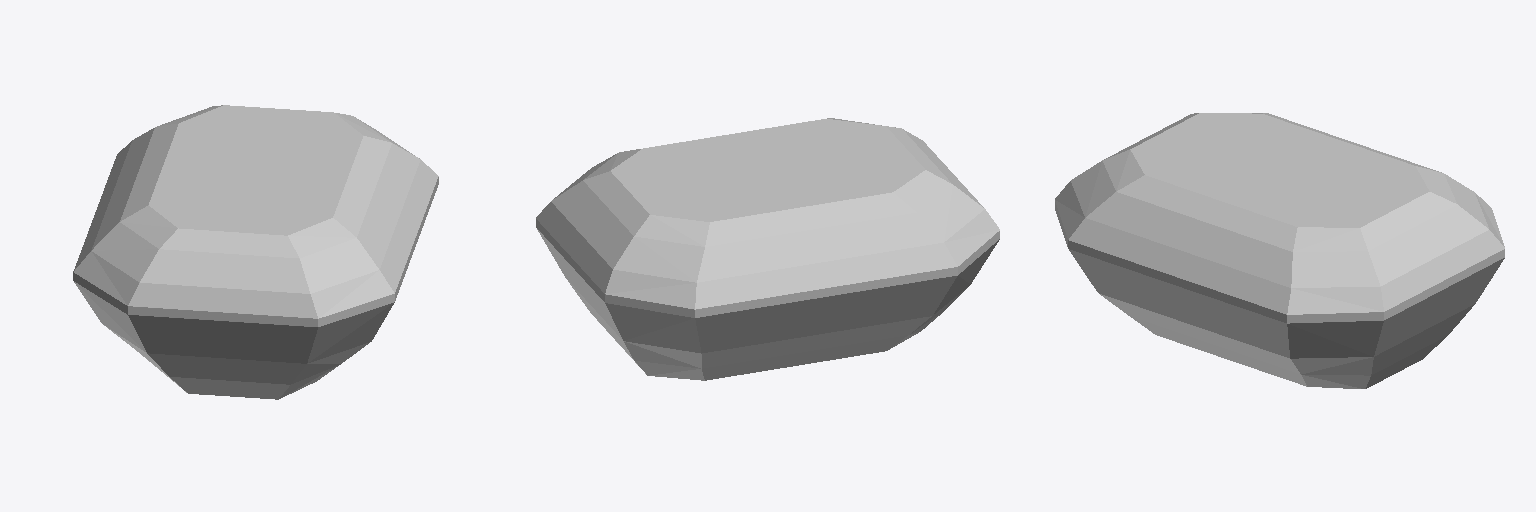
File: emerald5.obj
3 renders of one model, left to right at view 1: azimuth 30°, elevation 25°; view 2: azimuth 150°, elevation 25°; view 3: azimuth 270°, elevation 25°, orthographic.
Parts seen in each view (by area): view 1: pCube1; view 2: pCube1; view 3: pCube1.
Part boxes in pixels (x1,y1,x2,y2): pCube1: (73,105,438,399); pCube1: (536,118,999,380); pCube1: (1055,113,1504,388).
Size of the model in its own units: 2.47 by 1.09 by 2.59.